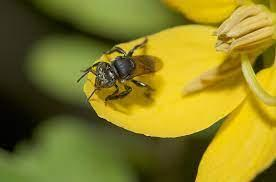Meliponula: (73, 35, 171, 109)
